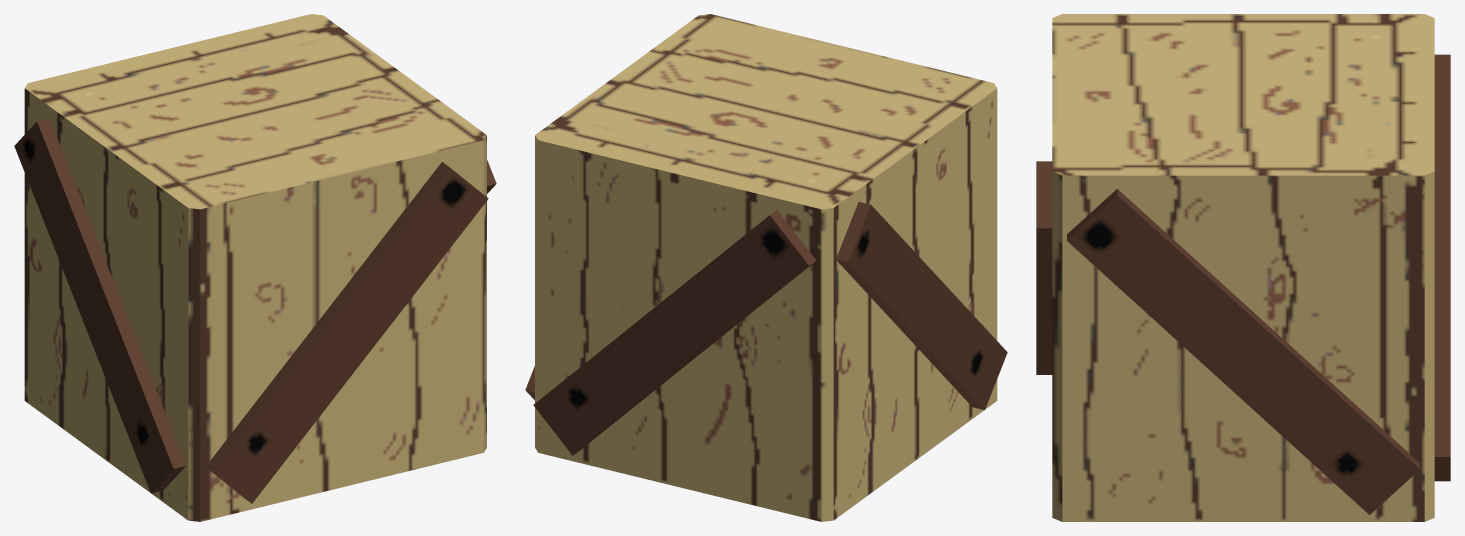
3 views of the same model, side by side, from view 1: azimuth 30°, elevation 25°; view 2: azimuth 150°, elevation 25°; view 3: azimuth 270°, elevation 25° (orthographic). The views are drawn at different scales.
Visible parts, largest first — view 1: Куб; view 2: Куб; view 3: Куб.
Boxes of the visible parts, <box> form: Куб: <box>14,14,496,521</box>; Куб: <box>525,14,1007,521</box>; Куб: <box>1036,14,1450,521</box>.
Bounding box in the file's own units: 216 × 217 × 200.
